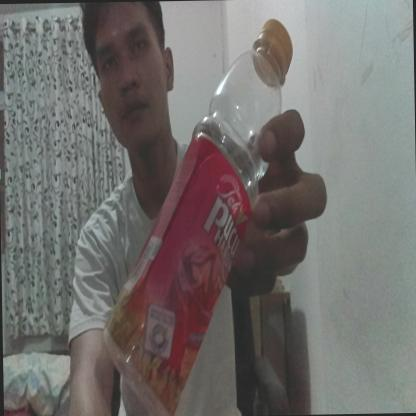plastic_bottles: (97, 15, 300, 416)
